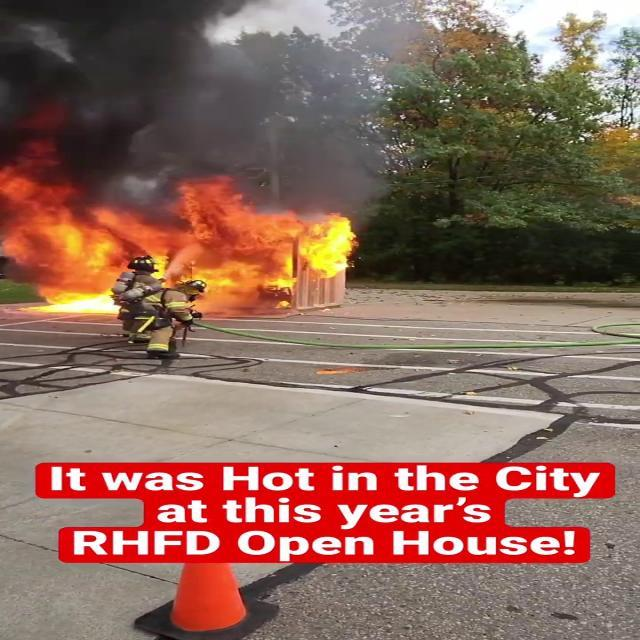Fire: (2, 181, 363, 315)
Smoke: (1, 0, 437, 207)
